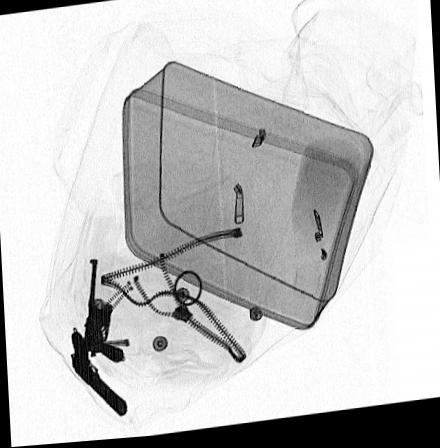Gun: (70, 332, 127, 419), (83, 260, 123, 365)
